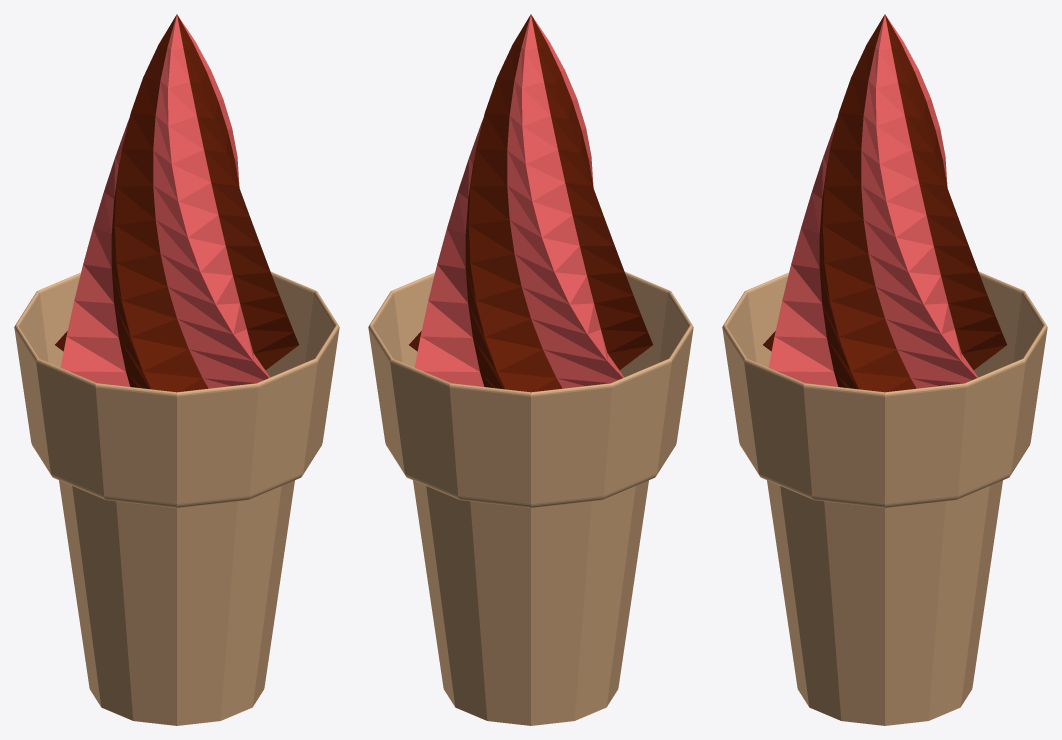
File: icecream.dae
3 views of the same model, side by side, from view 1: azimuth 30°, elevation 25°; view 2: azimuth 150°, elevation 25°; view 3: azimuth 270°, elevation 25° (orthographic).
Visible parts, largest first — view 1: group_1, one (×5); view 2: group_1, one (×5); view 3: group_1, one (×5).
Boxes of the visible parts, left/top/right/bottom form: group_1: left=14, top=271, right=339, bottom=725; one (×5): left=60, top=14, right=298, bottom=392; group_1: left=368, top=271, right=693, bottom=725; one (×5): left=414, top=14, right=652, bottom=392; group_1: left=722, top=271, right=1047, bottom=725; one (×5): left=768, top=14, right=1006, bottom=392.
Size of the model in its own units: 23.15 by 23.15 by 53.03.
